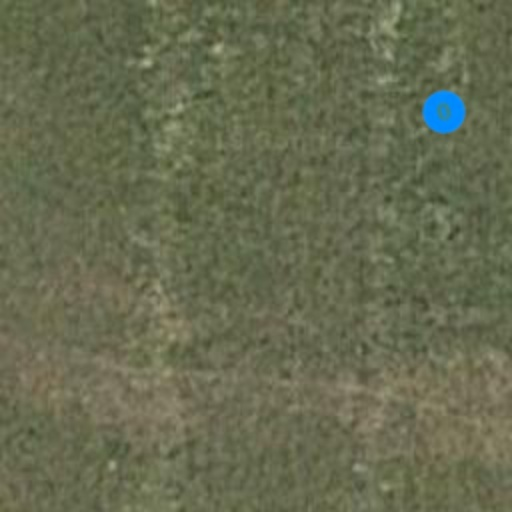circle: (418, 86, 470, 138)
